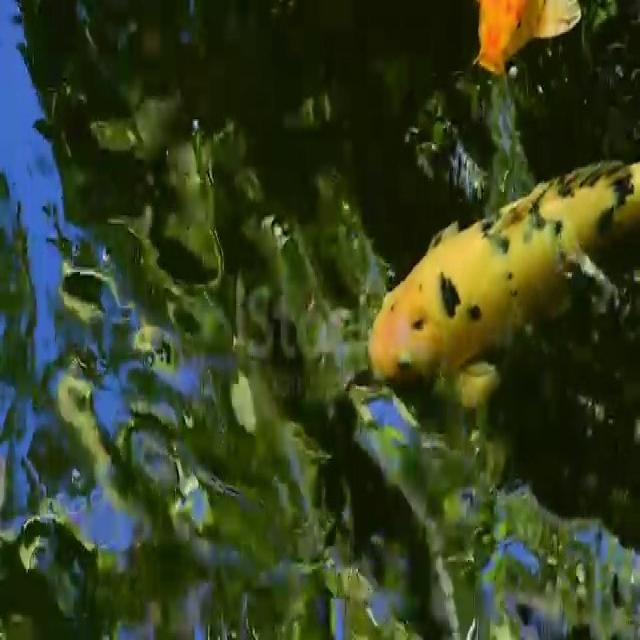fish: (362, 139, 640, 418)
